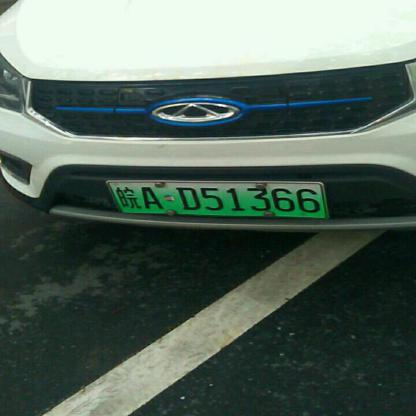lp: (108, 182, 324, 216)
